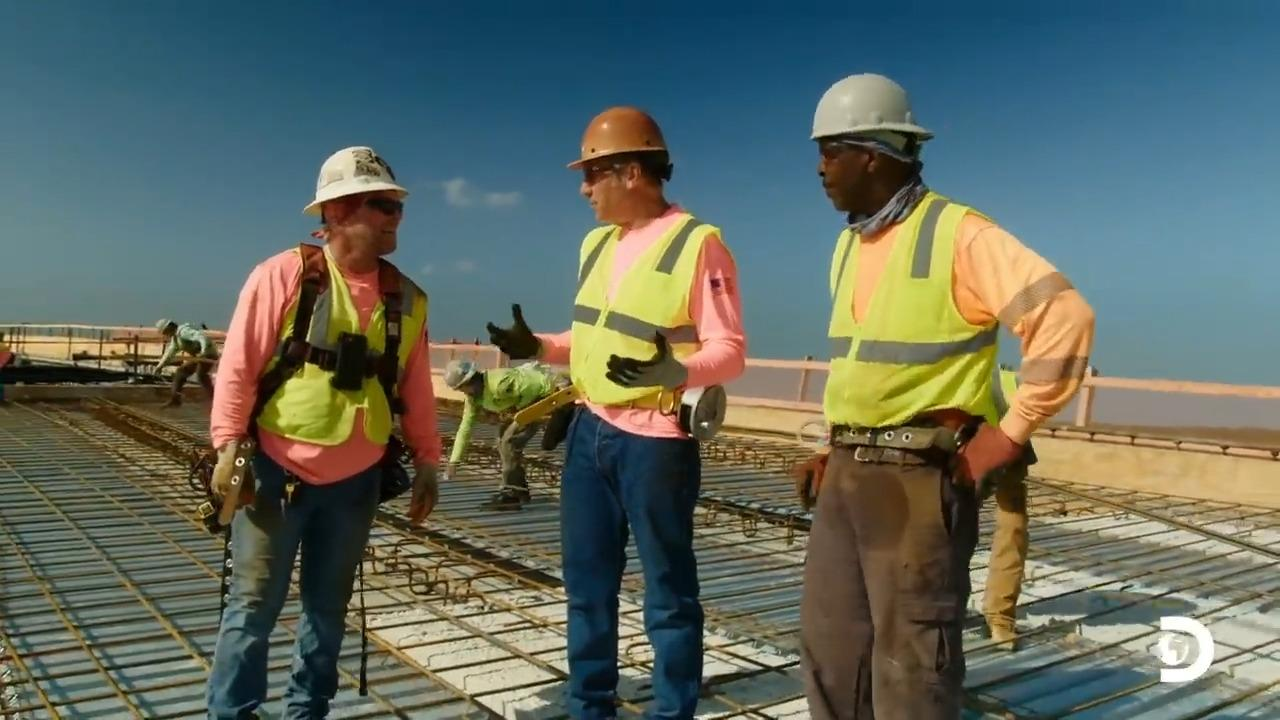Gloves: (614, 329, 684, 406), (959, 429, 1031, 502), (196, 443, 251, 514), (397, 468, 443, 531), (489, 306, 533, 365), (794, 458, 831, 505)
Helmet: (809, 72, 934, 142), (302, 145, 408, 216), (566, 105, 668, 170), (447, 361, 475, 394), (152, 315, 172, 332)
Person: (790, 71, 1095, 719), (519, 99, 780, 713), (204, 145, 442, 719), (442, 357, 572, 511), (153, 317, 219, 409)
Safety Vest: (825, 220, 974, 428), (269, 268, 404, 458), (580, 235, 693, 410), (492, 371, 538, 409)
